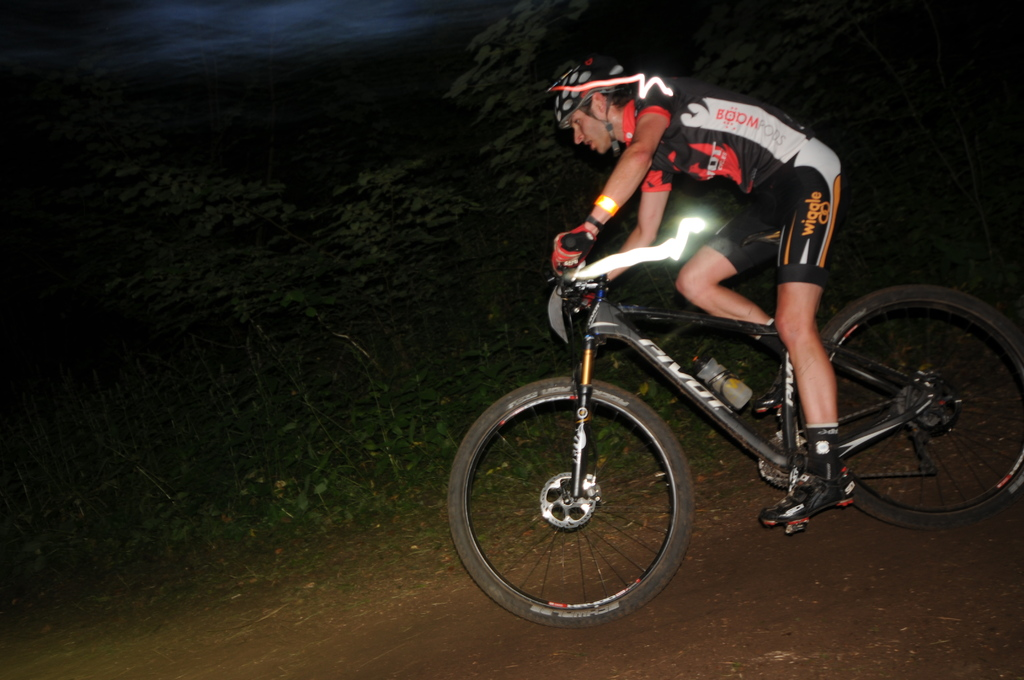Bike: (446, 216, 1017, 630)
